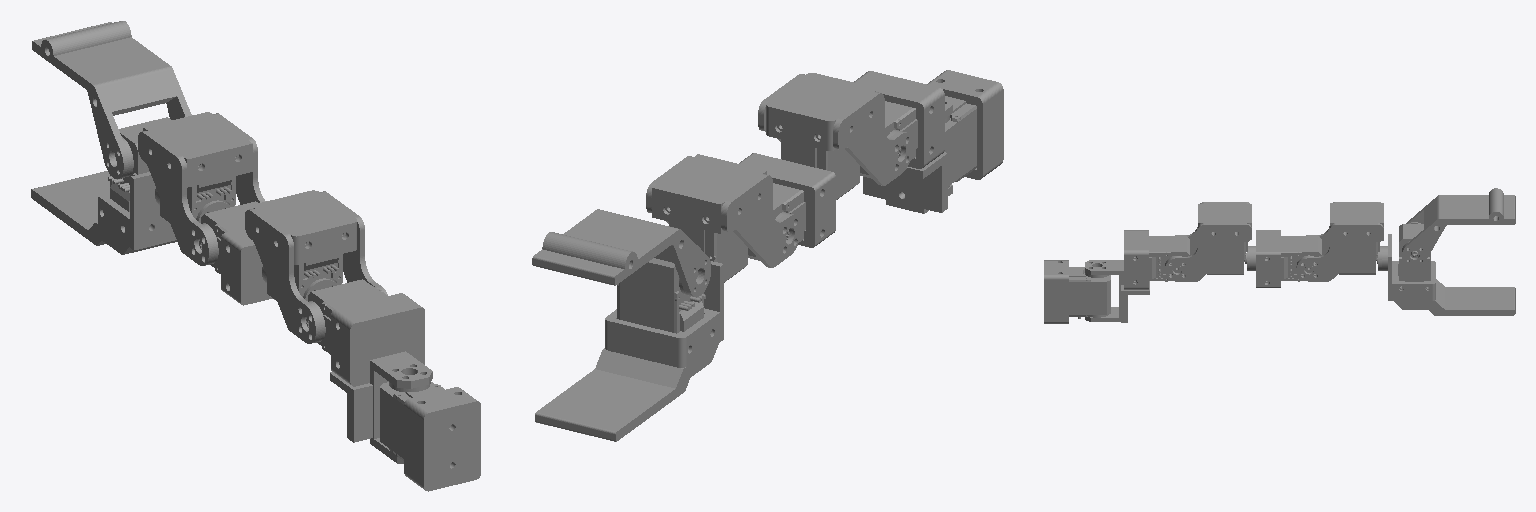
robot.urdf — arm_test_main:
<?xml version="1.0" ?>
<!-- =================================================================================== -->
<!-- |    This document was autogenerated by xacro from urdf/arm_test_main.xacro       | -->
<!-- |    EDITING THIS FILE BY HAND IS NOT RECOMMENDED                                 | -->
<!-- =================================================================================== -->
<robot name="arm_test_main">
  <material name="silver_default">
    <color rgba="0.700 0.700 0.700 1.000"/>
  </material>
  <material name="steel_satin">
    <color rgba="0.6274509803921569 0.6274509803921569 0.6274509803921569 1.0"/>
  </material>
  <transmission name="Revolute 1_tran">
    <type>transmission_interface/SimpleTransmission</type>
    <joint name="Revolute 1">
      <hardwareInterface>hardware_interface/EffortJointInterface</hardwareInterface>
    </joint>
    <actuator name="Revolute 1_actr">
      <hardwareInterface>hardware_interface/EffortJointInterface</hardwareInterface>
      <mechanicalReduction>1</mechanicalReduction>
    </actuator>
  </transmission>
  <transmission name="Revolute 6_tran">
    <type>transmission_interface/SimpleTransmission</type>
    <joint name="Revolute 6">
      <hardwareInterface>hardware_interface/EffortJointInterface</hardwareInterface>
    </joint>
    <actuator name="Revolute 6_actr">
      <hardwareInterface>hardware_interface/EffortJointInterface</hardwareInterface>
      <mechanicalReduction>1</mechanicalReduction>
    </actuator>
  </transmission>
  <transmission name="Revolute 2_tran">
    <type>transmission_interface/SimpleTransmission</type>
    <joint name="Revolute 2">
      <hardwareInterface>hardware_interface/EffortJointInterface</hardwareInterface>
    </joint>
    <actuator name="Revolute 2_actr">
      <hardwareInterface>hardware_interface/EffortJointInterface</hardwareInterface>
      <mechanicalReduction>1</mechanicalReduction>
    </actuator>
  </transmission>
  <transmission name="Revolute 3_tran">
    <type>transmission_interface/SimpleTransmission</type>
    <joint name="Revolute 3">
      <hardwareInterface>hardware_interface/EffortJointInterface</hardwareInterface>
    </joint>
    <actuator name="Revolute 3_actr">
      <hardwareInterface>hardware_interface/EffortJointInterface</hardwareInterface>
      <mechanicalReduction>1</mechanicalReduction>
    </actuator>
  </transmission>
  <transmission name="Revolute 4_tran">
    <type>transmission_interface/SimpleTransmission</type>
    <joint name="Revolute 4">
      <hardwareInterface>hardware_interface/EffortJointInterface</hardwareInterface>
    </joint>
    <actuator name="Revolute 4_actr">
      <hardwareInterface>hardware_interface/EffortJointInterface</hardwareInterface>
      <mechanicalReduction>1</mechanicalReduction>
    </actuator>
  </transmission>
  <transmission name="Revolute 5_tran">
    <type>transmission_interface/SimpleTransmission</type>
    <joint name="Revolute 5">
      <hardwareInterface>hardware_interface/EffortJointInterface</hardwareInterface>
    </joint>
    <actuator name="Revolute 5_actr">
      <hardwareInterface>hardware_interface/EffortJointInterface</hardwareInterface>
      <mechanicalReduction>1</mechanicalReduction>
    </actuator>
  </transmission>
  <link name="base_link">
    <inertial>
      <origin rpy="0 0 0" xyz="0.0003499999845567354 -0.055451634605518364 -0.01655773729685415"/>
      <mass value="0.3893898243402566"/>
      <inertia ixx="0.000131" ixy="-0.0" ixz="-0.0" iyy="7.1e-05" iyz="-2e-06" izz="0.000111"/>
    </inertial>
    <visual>
      <origin rpy="0 0 0" xyz="0 0 0"/>
      <geometry>
        <mesh filename="../meshes/base_link.stl" scale="0.001 0.001 0.001"/>
      </geometry>
      <material name="steel_satin"/>
    </visual>
    <collision>
      <origin rpy="0 0 0" xyz="0 0 0"/>
      <geometry>
        <mesh filename="../meshes/base_link.stl" scale="0.001 0.001 0.001"/>
      </geometry>
    </collision>
  </link>
  <link name="pitch_1_test_v5_1">
    <inertial>
      <origin rpy="0 0 0" xyz="-0.0002232261084468942 0.037799318734209816 -0.0010892901314620007"/>
      <mass value="0.5173712582672985"/>
      <inertia ixx="0.000268" ixy="2e-06" ixz="1e-06" iyy="0.000174" iyz="-6.3e-05" izz="0.000212"/>
    </inertial>
    <visual>
      <origin rpy="0 0 0" xyz="-0.00035 0.0369 -0.0062"/>
      <geometry>
        <mesh filename="../meshes/pitch_1_test_v5_1.stl" scale="0.001 0.001 0.001"/>
      </geometry>
      <material name="steel_satin"/>
    </visual>
    <collision>
      <origin rpy="0 0 0" xyz="-0.00035 0.0369 -0.0062"/>
      <geometry>
        <mesh filename="../meshes/pitch_1_test_v5_1.stl" scale="0.001 0.001 0.001"/>
      </geometry>
    </collision>
  </link>
  <link name="hand_finger_v1_1">
    <inertial>
      <origin rpy="0 0 0" xyz="-0.02170000000000309 0.036124214048086134 0.024494705961264657"/>
      <mass value="0.18407843738656002"/>
      <inertia ixx="0.000116" ixy="0.0" ixz="0.0" iyy="5e-05" iyz="-2.8e-05" izz="0.000135"/>
    </inertial>
    <visual>
      <origin rpy="0 0 0" xyz="-0.0215 -0.20995 -0.02465"/>
      <geometry>
        <mesh filename="../meshes/hand_finger_v1_1.stl" scale="0.001 0.001 0.001"/>
      </geometry>
      <material name="steel_satin"/>
    </visual>
    <collision>
      <origin rpy="0 0 0" xyz="-0.0215 -0.20995 -0.02465"/>
      <geometry>
        <mesh filename="../meshes/hand_finger_v1_1.stl" scale="0.001 0.001 0.001"/>
      </geometry>
    </collision>
  </link>
  <link name="roll_1_test_v11_1">
    <inertial>
      <origin rpy="0 0 0" xyz="-0.02120000001136538 0.03553001060803644 0.017590075270092268"/>
      <mass value="0.45569427768407117"/>
      <inertia ixx="0.000164" ixy="-0.0" ixz="0.0" iyy="0.00015" iyz="-1.1e-05" izz="0.00013"/>
    </inertial>
    <visual>
      <origin rpy="0 0 0" xyz="-0.0207 -0.0253 -0.01165"/>
      <geometry>
        <mesh filename="../meshes/roll_1_test_v11_1.stl" scale="0.001 0.001 0.001"/>
      </geometry>
      <material name="steel_satin"/>
    </visual>
    <collision>
      <origin rpy="0 0 0" xyz="-0.0207 -0.0253 -0.01165"/>
      <geometry>
        <mesh filename="../meshes/roll_1_test_v11_1.stl" scale="0.001 0.001 0.001"/>
      </geometry>
    </collision>
  </link>
  <link name="pitch_2_test_v1_1">
    <inertial>
      <origin rpy="0 0 0" xyz="0.0003543930189758741 0.026889206855970238 -2.973126154992567e-10"/>
      <mass value="0.4049688490988578"/>
      <inertia ixx="0.000118" ixy="2e-06" ixz="0.0" iyy="7.6e-05" iyz="-0.0" izz="0.000143"/>
    </inertial>
    <visual>
      <origin rpy="0 0 0" xyz="0.0005 -0.0817 -0.01165"/>
      <geometry>
        <mesh filename="../meshes/pitch_2_test_v1_1.stl" scale="0.001 0.001 0.001"/>
      </geometry>
      <material name="steel_satin"/>
    </visual>
    <collision>
      <origin rpy="0 0 0" xyz="0.0005 -0.0817 -0.01165"/>
      <geometry>
        <mesh filename="../meshes/pitch_2_test_v1_1.stl" scale="0.001 0.001 0.001"/>
      </geometry>
    </collision>
  </link>
  <link name="roll_2_test_v1_1">
    <inertial>
      <origin rpy="0 0 0" xyz="-0.021200000011342975 0.03553313851539064 0.01761719047417286"/>
      <mass value="0.45660397486942944"/>
      <inertia ixx="0.000165" ixy="-0.0" ixz="0.0" iyy="0.000151" iyz="-1.1e-05" izz="0.00013"/>
    </inertial>
    <visual>
      <origin rpy="0 0 0" xyz="-0.0205 -0.1279 -0.01165"/>
      <geometry>
        <mesh filename="../meshes/roll_2_test_v1_1.stl" scale="0.001 0.001 0.001"/>
      </geometry>
      <material name="steel_satin"/>
    </visual>
    <collision>
      <origin rpy="0 0 0" xyz="-0.0205 -0.1279 -0.01165"/>
      <geometry>
        <mesh filename="../meshes/roll_2_test_v1_1.stl" scale="0.001 0.001 0.001"/>
      </geometry>
    </collision>
  </link>
  <link name="hand_unit_v1_1">
    <inertial>
      <origin rpy="0 0 0" xyz="-0.00015861142460390045 0.032553601595988524 -0.014188170173816673"/>
      <mass value="0.6163609537224307"/>
      <inertia ixx="0.000491" ixy="1e-06" ixz="-3e-06" iyy="0.000278" iyz="0.000125" izz="0.000371"/>
    </inertial>
    <visual>
      <origin rpy="0 0 0" xyz="0.0007 -0.1843 -0.01165"/>
      <geometry>
        <mesh filename="../meshes/hand_unit_v1_1.stl" scale="0.001 0.001 0.001"/>
      </geometry>
      <material name="steel_satin"/>
    </visual>
    <collision>
      <origin rpy="0 0 0" xyz="0.0007 -0.1843 -0.01165"/>
      <geometry>
        <mesh filename="../meshes/hand_unit_v1_1.stl" scale="0.001 0.001 0.001"/>
      </geometry>
    </collision>
  </link>
  <joint name="Revolute 1" type="revolute">
    <origin rpy="0 0 0" xyz="0.00035 -0.0369 0.0062"/>
    <parent link="base_link"/>
    <child link="pitch_1_test_v5_1"/>
    <axis xyz="0.0 0.0 -1.0"/>
    <limit effort="100" lower="-1.570796" upper="1.570796" velocity="100"/>
  </joint>
  <joint name="Revolute 6" type="revolute">
    <origin rpy="0 0 0" xyz="0.0222 0.02565 0.013"/>
    <parent link="hand_unit_v1_1"/>
    <child link="hand_finger_v1_1"/>
    <axis xyz="-1.0 -0.0 0.0"/>
    <limit effort="100" lower="-1.047198" upper="0.872665" velocity="100"/>
  </joint>
  <joint name="Revolute 2" type="revolute">
    <origin rpy="0 0 0" xyz="0.02035 0.0622 0.00545"/>
    <parent link="pitch_1_test_v5_1"/>
    <child link="roll_1_test_v11_1"/>
    <axis xyz="-1.0 -0.0 -0.0"/>
    <limit effort="100" lower="-1.396263" upper="1.745329" velocity="100"/>
  </joint>
  <joint name="Revolute 3" type="continuous">
    <origin rpy="0 0 0" xyz="-0.0212 0.0564 0.0"/>
    <parent link="roll_1_test_v11_1"/>
    <child link="pitch_2_test_v1_1"/>
    <axis xyz="-0.0 1.0 -0.0"/>
  </joint>
  <joint name="Revolute 4" type="revolute">
    <origin rpy="0 0 0" xyz="0.021 0.0462 0.0"/>
    <parent link="pitch_2_test_v1_1"/>
    <child link="roll_2_test_v1_1"/>
    <axis xyz="-1.0 0.0 -0.0"/>
    <limit effort="100" lower="-1.396263" upper="1.919862" velocity="100"/>
  </joint>
  <joint name="Revolute 5" type="continuous">
    <origin rpy="0 0 0" xyz="-0.0212 0.0564 0.0"/>
    <parent link="roll_2_test_v1_1"/>
    <child link="hand_unit_v1_1"/>
    <axis xyz="0.0 -1.0 -0.0"/>
  </joint>
</robot>

--- Facts derived from the render (not from the file) ---
3 views of the same robot in one strip: view 1: azimuth 30°, elevation 25°; view 2: azimuth 150°, elevation 25°; view 3: azimuth 270°, elevation 25° (orthographic).
Model arm_test_main with 7 links and 6 joints (4 revolute, 2 continuous), rooted at base_link, posed every joint at zero.
Links seen in each view (by area): view 1: pitch_1_test_v5_1, roll_1_test_v11_1, roll_2_test_v1_1, hand_finger_v1_1, base_link, hand_unit_v1_1, pitch_2_test_v1_1; view 2: hand_unit_v1_1, roll_1_test_v11_1, roll_2_test_v1_1, hand_finger_v1_1, pitch_1_test_v5_1, base_link, pitch_2_test_v1_1; view 3: hand_unit_v1_1, roll_2_test_v1_1, roll_1_test_v11_1, pitch_1_test_v5_1, hand_finger_v1_1, base_link, pitch_2_test_v1_1.
Boxes of the visible links, x1=… form: pitch_1_test_v5_1: x1=306, y1=279, x2=432, y2=463; roll_1_test_v11_1: x1=245, y1=190, x2=387, y2=343; roll_2_test_v1_1: x1=138, y1=112, x2=265, y2=265; hand_finger_v1_1: x1=32, y1=21, x2=191, y2=178; base_link: x1=380, y1=382, x2=480, y2=491; hand_unit_v1_1: x1=31, y1=117, x2=176, y2=254; pitch_2_test_v1_1: x1=199, y1=201, x2=272, y2=305; hand_unit_v1_1: x1=535, y1=245, x2=723, y2=441; roll_1_test_v11_1: x1=758, y1=73, x2=912, y2=199; roll_2_test_v1_1: x1=646, y1=154, x2=800, y2=282; hand_finger_v1_1: x1=532, y1=209, x2=710, y2=296; pitch_1_test_v5_1: x1=854, y1=71, x2=952, y2=213; base_link: x1=927, y1=70, x2=1003, y2=187; pitch_2_test_v1_1: x1=739, y1=153, x2=835, y2=260; hand_unit_v1_1: x1=1382, y1=222, x2=1515, y2=315; roll_2_test_v1_1: x1=1296, y1=202, x2=1383, y2=281; roll_1_test_v11_1: x1=1165, y1=202, x2=1251, y2=281; pitch_1_test_v5_1: x1=1085, y1=230, x2=1189, y2=322; hand_finger_v1_1: x1=1402, y1=188, x2=1515, y2=266; base_link: x1=1044, y1=260, x2=1110, y2=323; pitch_2_test_v1_1: x1=1250, y1=230, x2=1321, y2=287.
Size in the robot's own frame: 0.0449 by 0.3665 by 0.1002 metres.
Meshes: 7 distinct files referenced, 7 mesh visuals loaded (7 binary STL).
